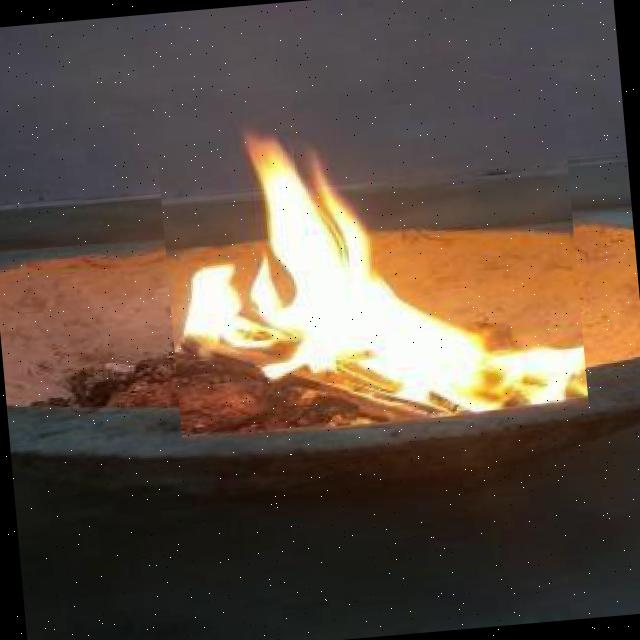fire: (152, 70, 588, 443)
